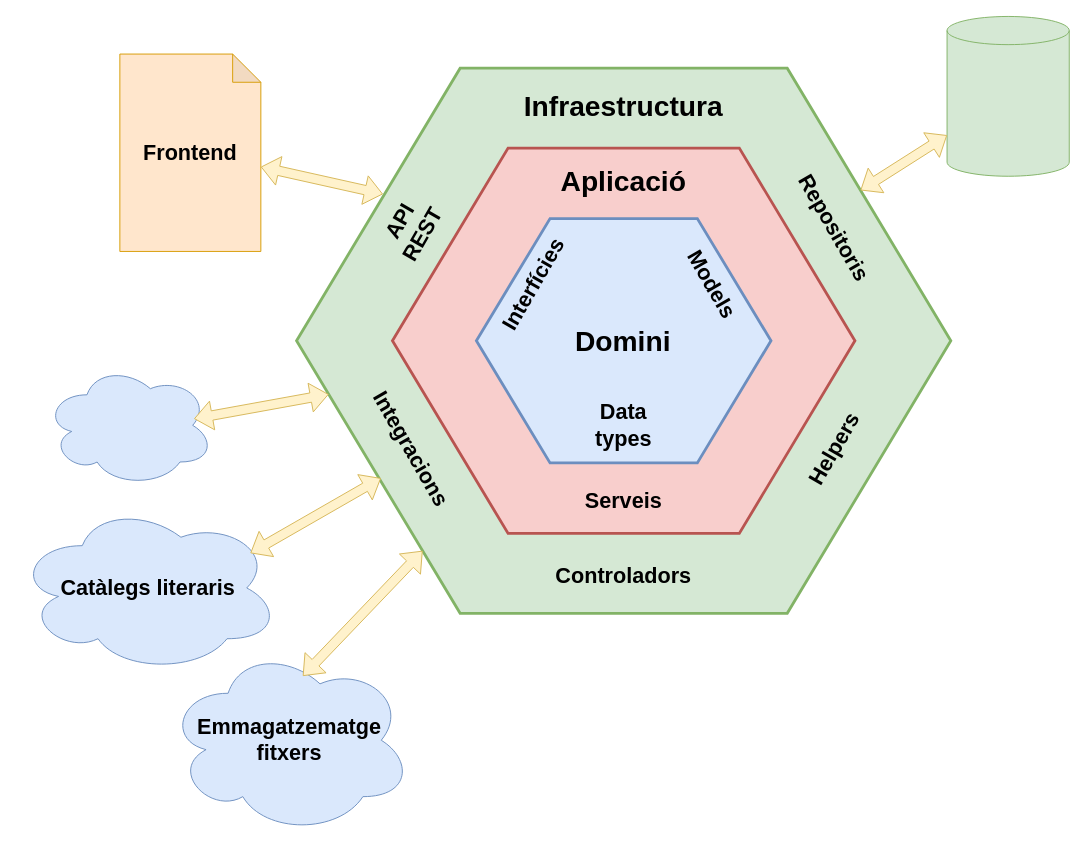
This 1086x851 diagram has some shape labels left out. Each missing label, with the centre of its shape:
BBDD: (x=1007, y=96)
Servei de correu: (x=129, y=424)
